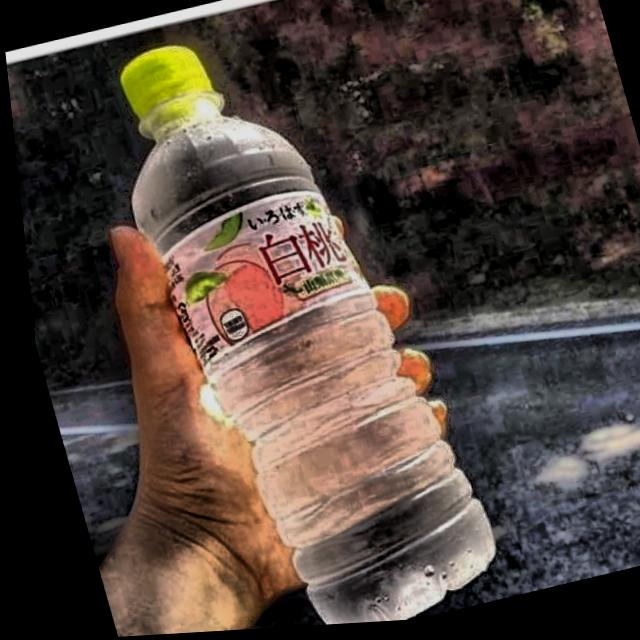Bottles: (59, 1, 508, 637)
